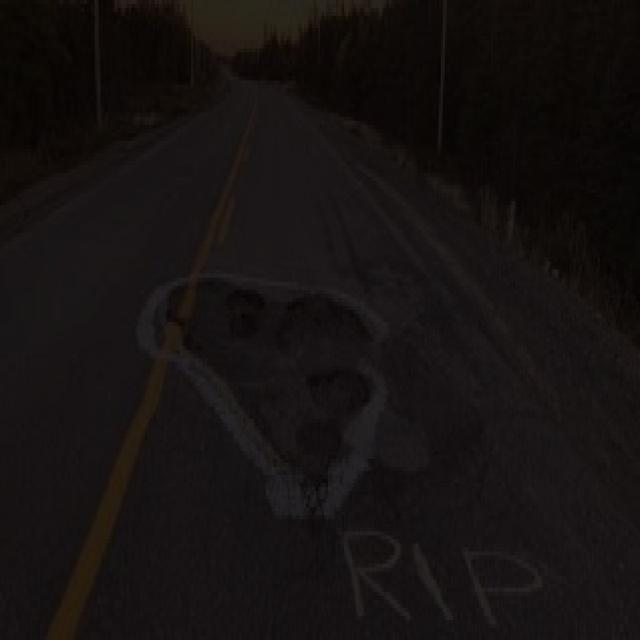Pothole: (161, 270, 400, 519)
